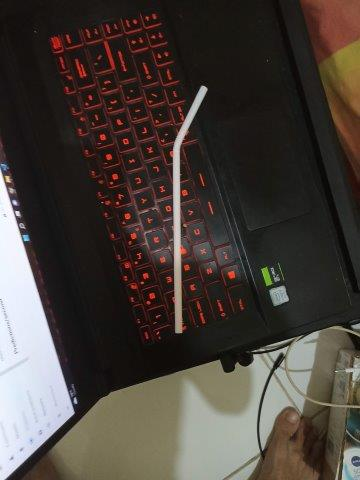sedotan: (173, 84, 208, 334)
